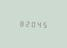eight: (18, 19, 23, 27)
five: (42, 20, 47, 28)
four: (36, 20, 41, 28)
two: (24, 19, 29, 27)
zero: (30, 19, 35, 28)
